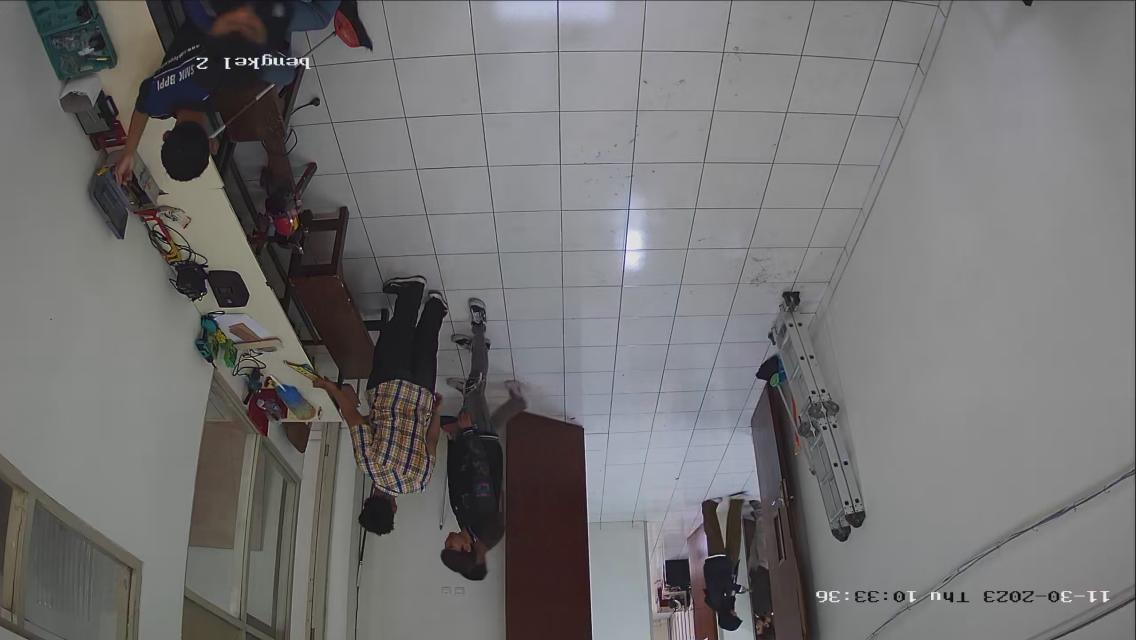Person-Crowd: (442, 269, 517, 591), (350, 274, 432, 552), (694, 491, 747, 638)
